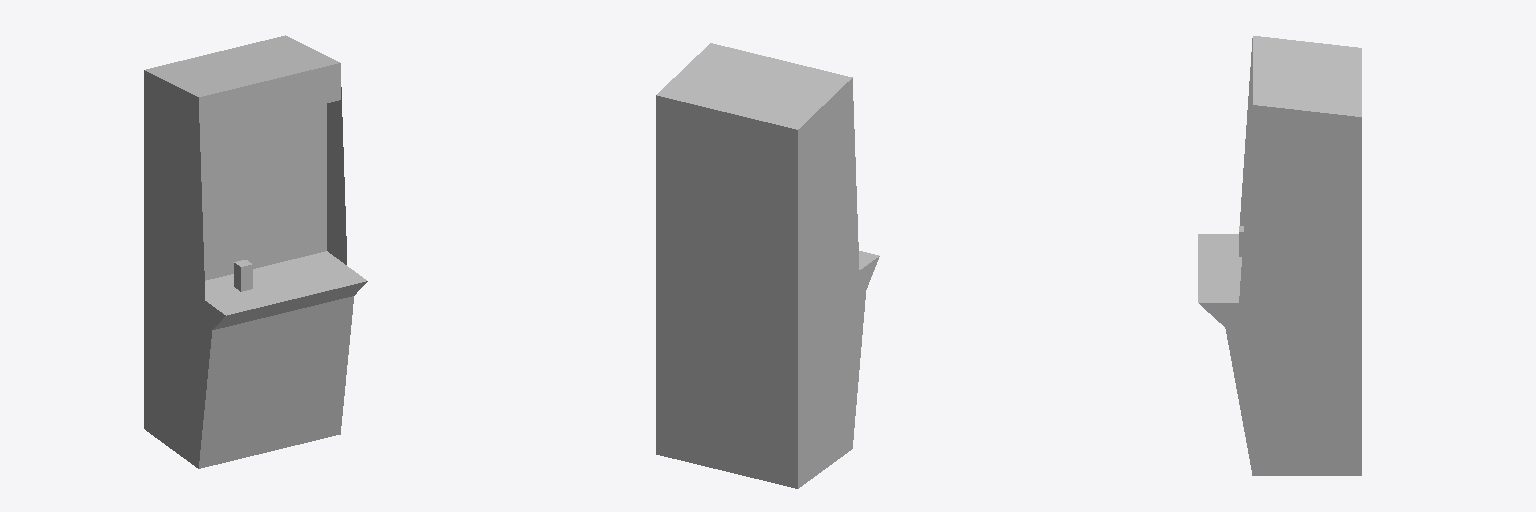
Rendered from egular cabinet.obj.
3 renders of one model, left to right at view 1: azimuth 30°, elevation 25°; view 2: azimuth 150°, elevation 25°; view 3: azimuth 270°, elevation 25°, orthographic.
Parts seen in each view (by area): view 1: egular cabinet; view 2: egular cabinet; view 3: egular cabinet.
Boxes of the visible parts, box(x1,y1,x2,y2) form: egular cabinet: box(144, 35, 367, 468); egular cabinet: box(656, 43, 879, 488); egular cabinet: box(1198, 36, 1361, 475).
Bounding box in the file's own units: 3 × 7.5 × 3.